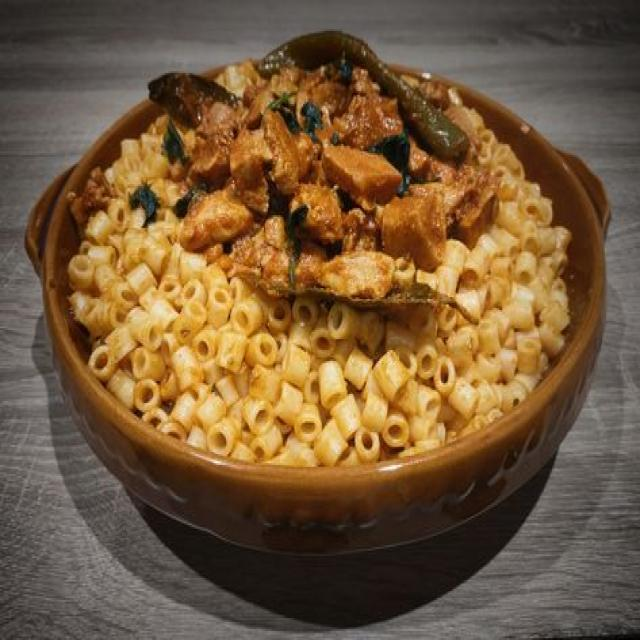Pasta: (53, 43, 572, 489)
